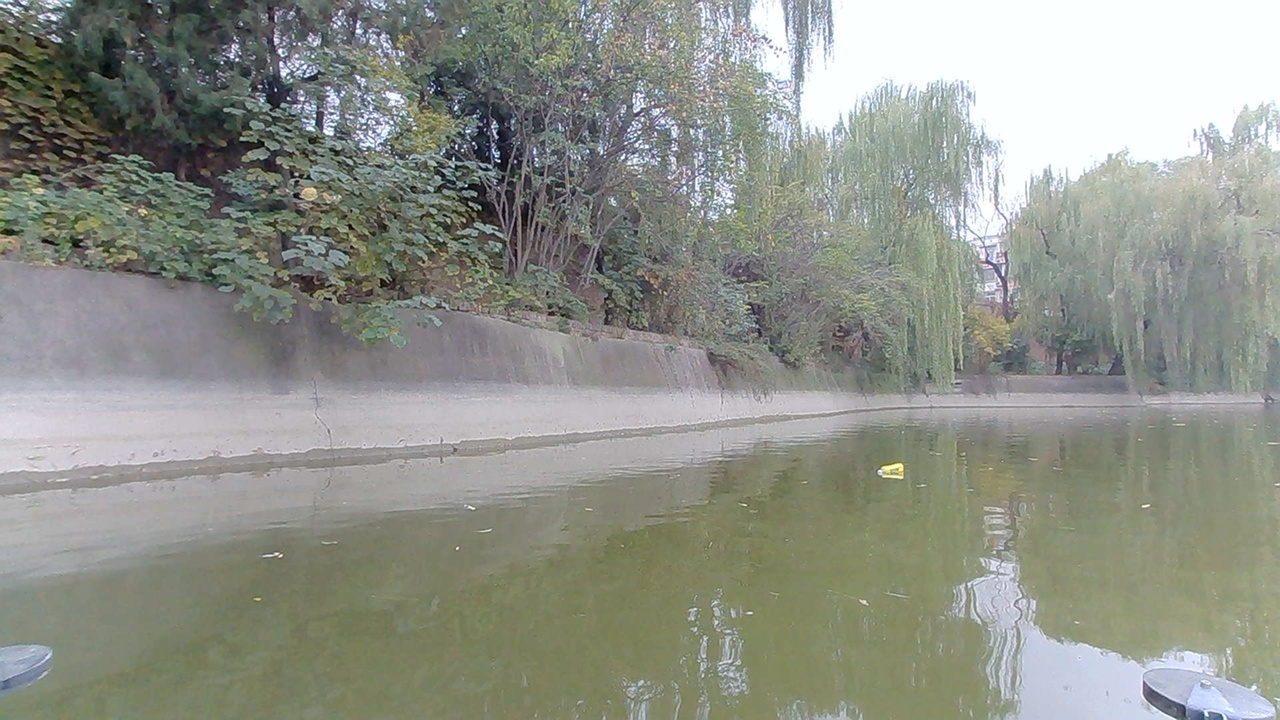bottle: (876, 459, 910, 482)
